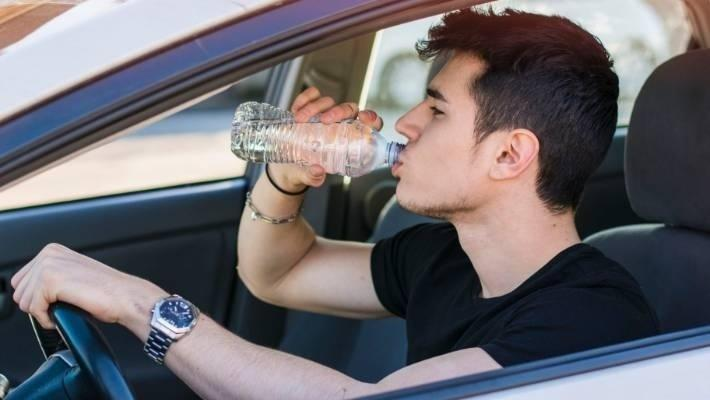bottle-plastic: (228, 100, 402, 181)
